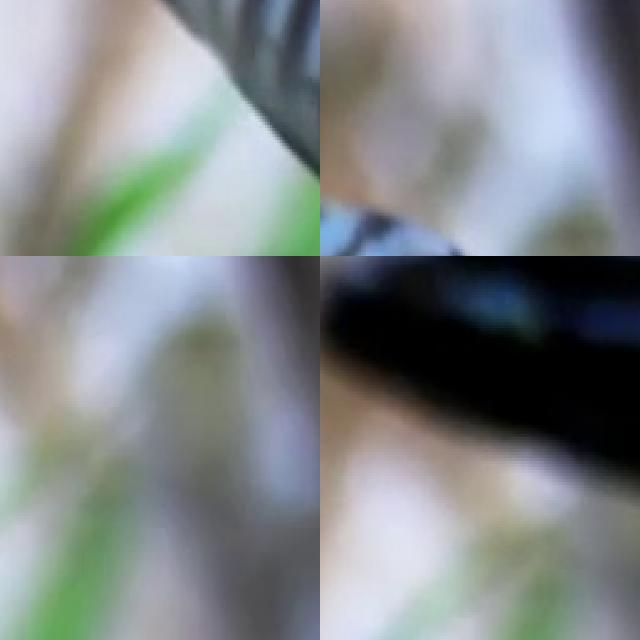fish: (320, 256, 640, 548), (0, 0, 320, 256)
